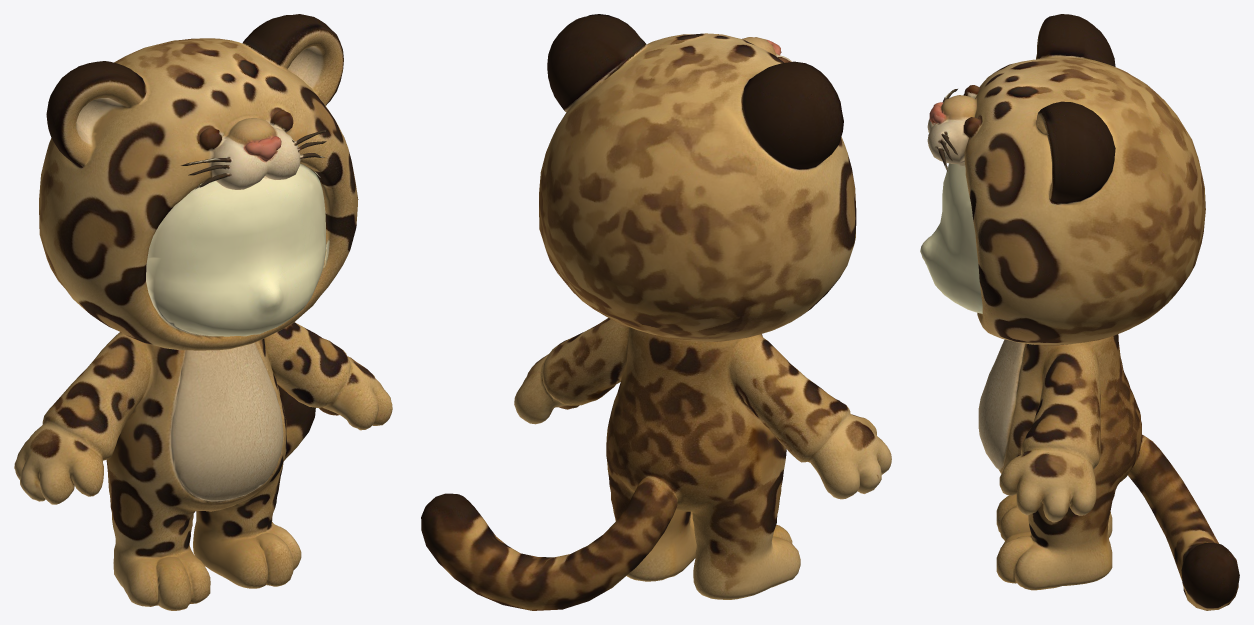
File: leopard.glb
The picture shows the model from 3 angles, left to right: view 1: azimuth 30°, elevation 25°; view 2: azimuth 150°, elevation 25°; view 3: azimuth 270°, elevation 25°; orthographic projection. The views are drawn at different scales.
Parts seen in each view (by area): view 1: tripo_node_a047e01c-f4a9-415c-824f-5b1778e85bb7; view 2: tripo_node_a047e01c-f4a9-415c-824f-5b1778e85bb7; view 3: tripo_node_a047e01c-f4a9-415c-824f-5b1778e85bb7.
Boxes of the visible parts, box(x1,y1,x2,y2) form: tripo_node_a047e01c-f4a9-415c-824f-5b1778e85bb7: box(14, 14, 392, 610); tripo_node_a047e01c-f4a9-415c-824f-5b1778e85bb7: box(421, 14, 891, 610); tripo_node_a047e01c-f4a9-415c-824f-5b1778e85bb7: box(920, 14, 1239, 610).
Size of the model in its own units: 0.7177 by 0.978 by 0.5761.
1 material, 1 textured.
